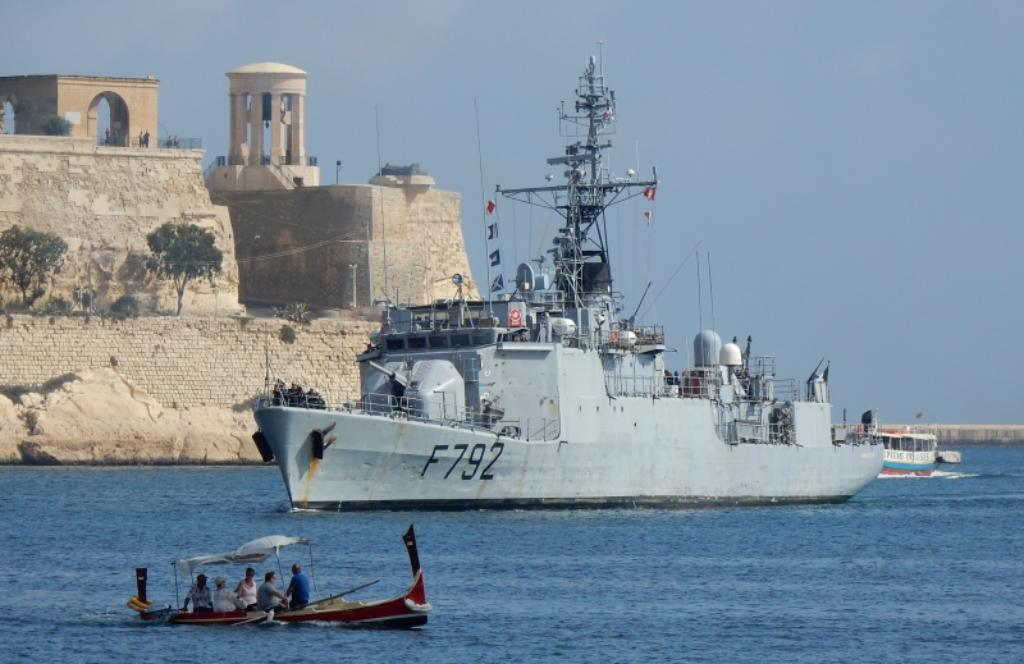Warship: (249, 37, 887, 514)
